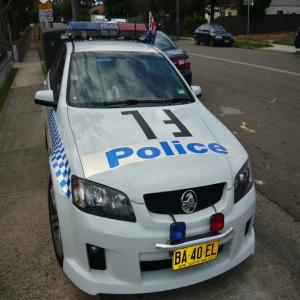Vehicle-registration-plate: (173, 240, 220, 271)
